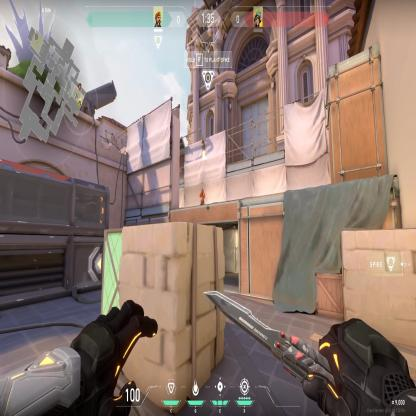enemy: (199, 187, 205, 205)
